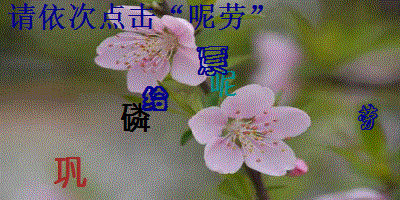result: (186, 1, 246, 34)
text: (52, 154, 90, 191), (193, 42, 229, 77), (119, 101, 153, 135), (139, 83, 170, 113), (207, 70, 239, 99), (356, 102, 380, 133)
